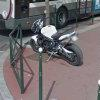Motorcycle: (25, 16, 96, 71)
